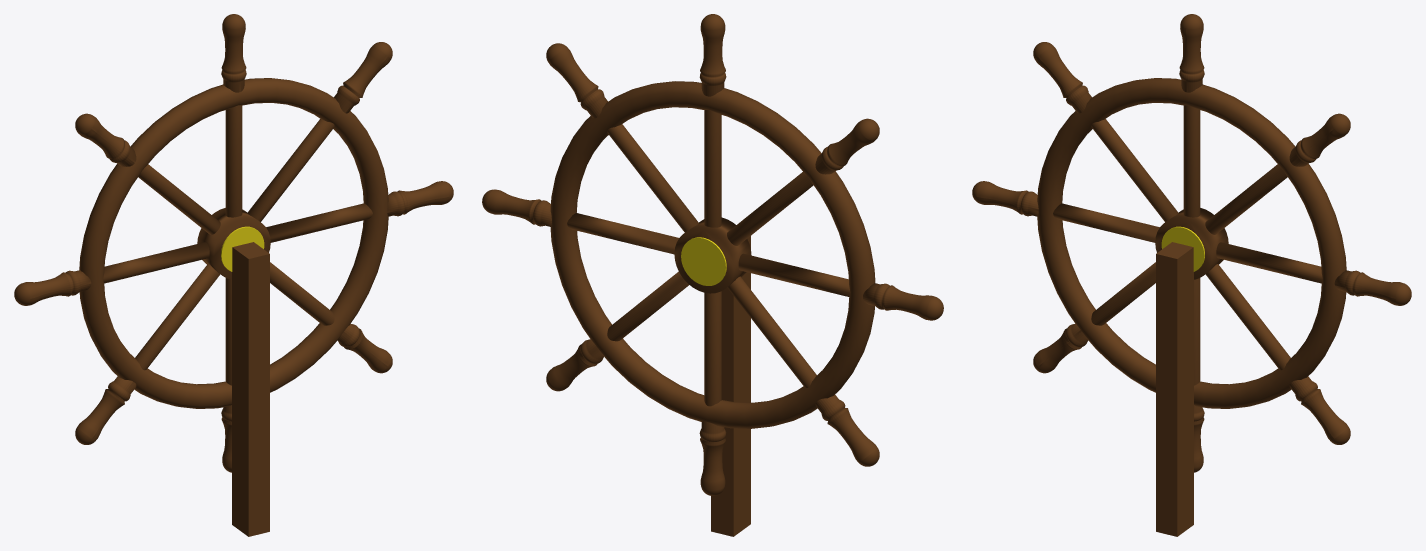
File: Ship_Steering_Wheel.fbx
3 renders of one model, left to right at view 1: azimuth 30°, elevation 25°; view 2: azimuth 150°, elevation 25°; view 3: azimuth 330°, elevation 25°, orthographic. The views are drawn at different scales.
Visible parts, largest first — view 1: Cube; view 2: Cube; view 3: Cube.
Boxes of the visible parts, <box> form: Cube: <box>14,14,453,536</box>; Cube: <box>482,14,943,536</box>; Cube: <box>972,14,1411,536</box>.
Size of the model in its own units: 187 by 205 by 25.46.
